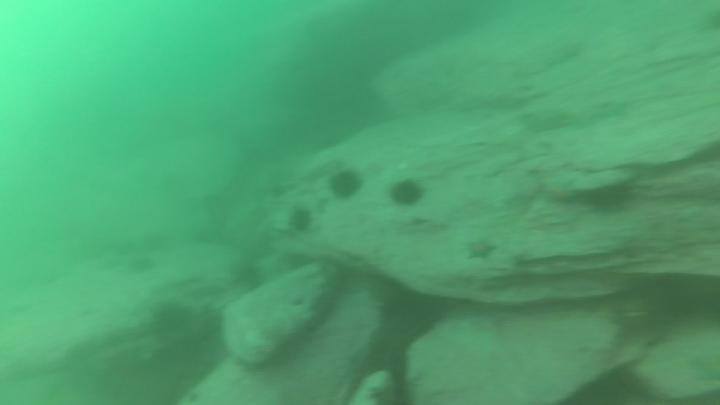echinus: (582, 183, 633, 214), (387, 177, 428, 211), (327, 168, 363, 200), (287, 203, 317, 237)
starfish: (463, 235, 502, 266)
